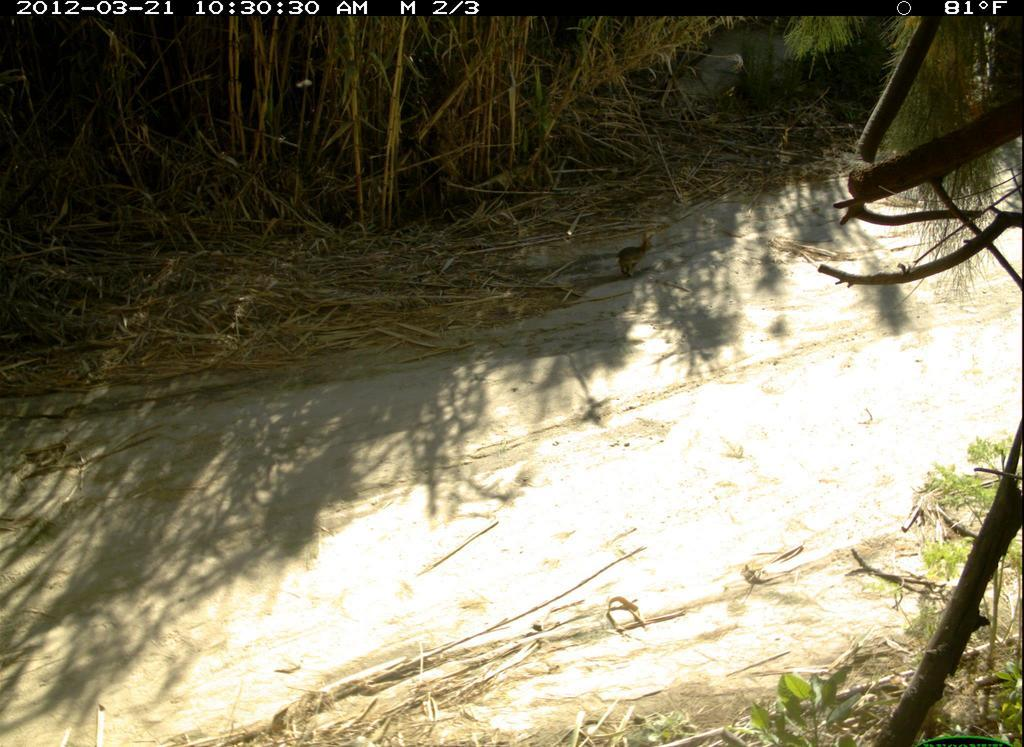rabbit: (607, 228, 665, 289)
